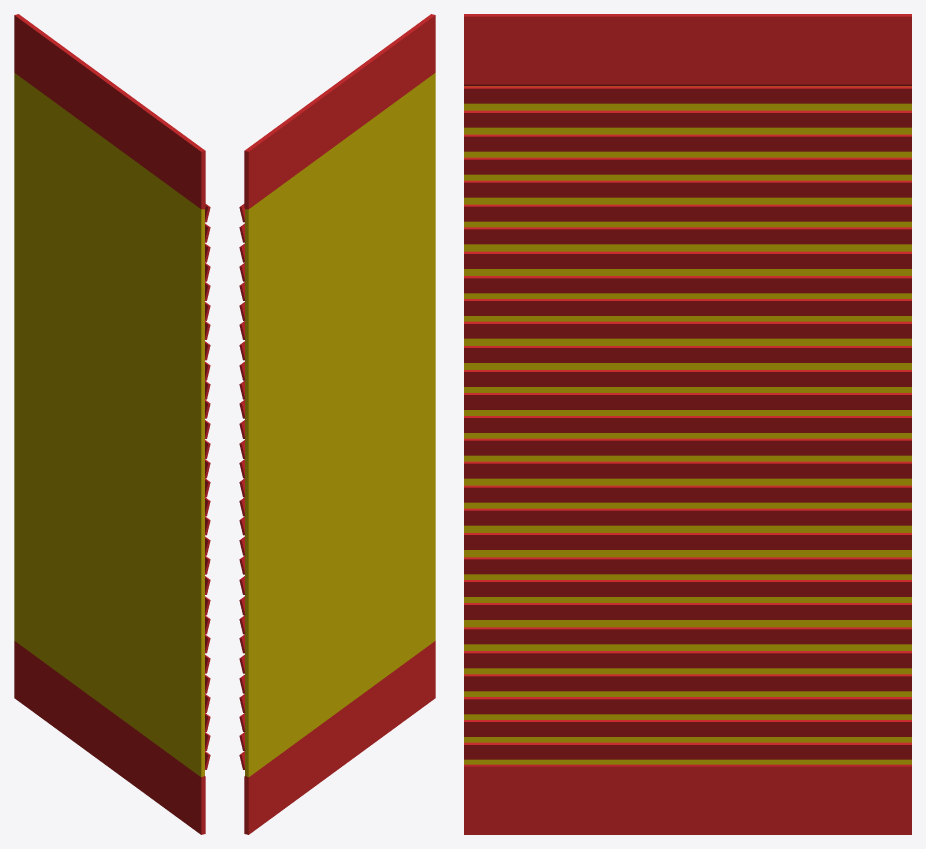
Rendered from MOD_FUR_Closet_door_01.fbx.
3 renders of one model, left to right at view 1: azimuth 30°, elevation 25°; view 2: azimuth 150°, elevation 25°; view 3: azimuth 270°, elevation 25°, orthographic. The views are drawn at different scales.
Parts seen in each view (by area): view 1: HSHP_MOD_Closet_door_01; view 2: HSHP_MOD_Closet_door_01; view 3: HSHP_MOD_Closet_door_01.
Boxes of the visible parts, x1,y1,x2,y2 form: HSHP_MOD_Closet_door_01: (14,14,210,834); HSHP_MOD_Closet_door_01: (239,14,435,834); HSHP_MOD_Closet_door_01: (464,14,911,834).
Bounding box in the file's own units: 0.0286 × 1.98 × 0.9826.
